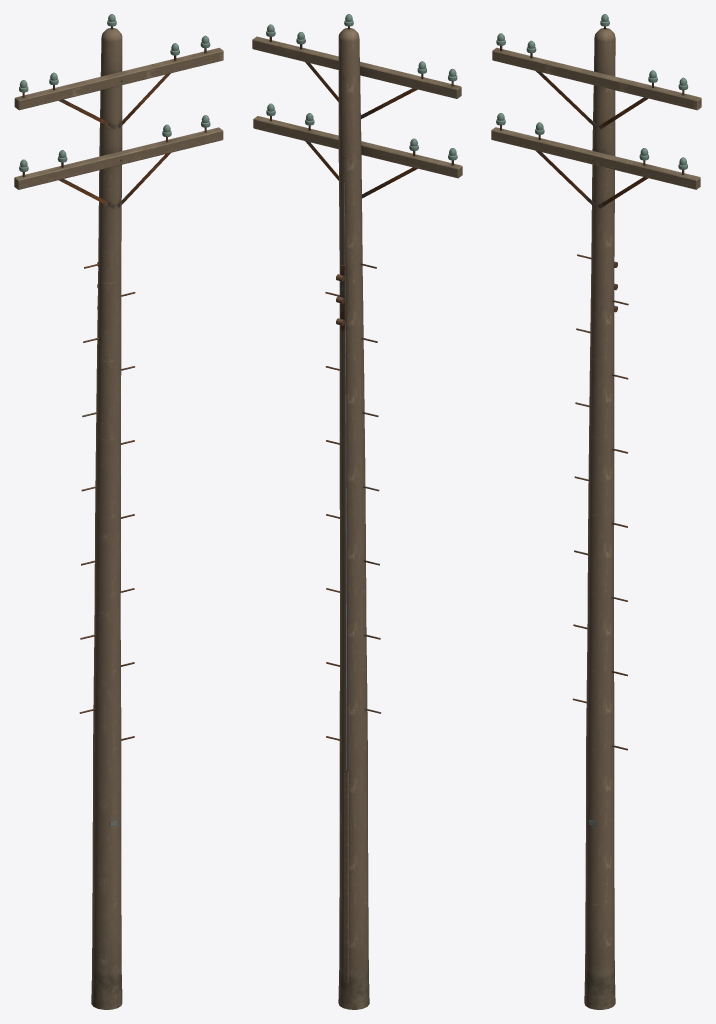
The model's file is utility_pole.glb.
The picture shows the model from 3 angles, left to right: view 1: azimuth 30°, elevation 25°; view 2: azimuth 150°, elevation 25°; view 3: azimuth 330°, elevation 25°; orthographic projection.
Parts seen in each view (by area): view 1: utility_pole; view 2: utility_pole; view 3: utility_pole.
Part boxes in pixels (x1,y1,x2,y2): utility_pole: (14,14,223,1009); utility_pole: (252,14,462,1009); utility_pole: (491,14,701,1009).
Size of the model in its own units: 2.45 by 11.21 by 0.4435.
4 materials, 4 textured.
